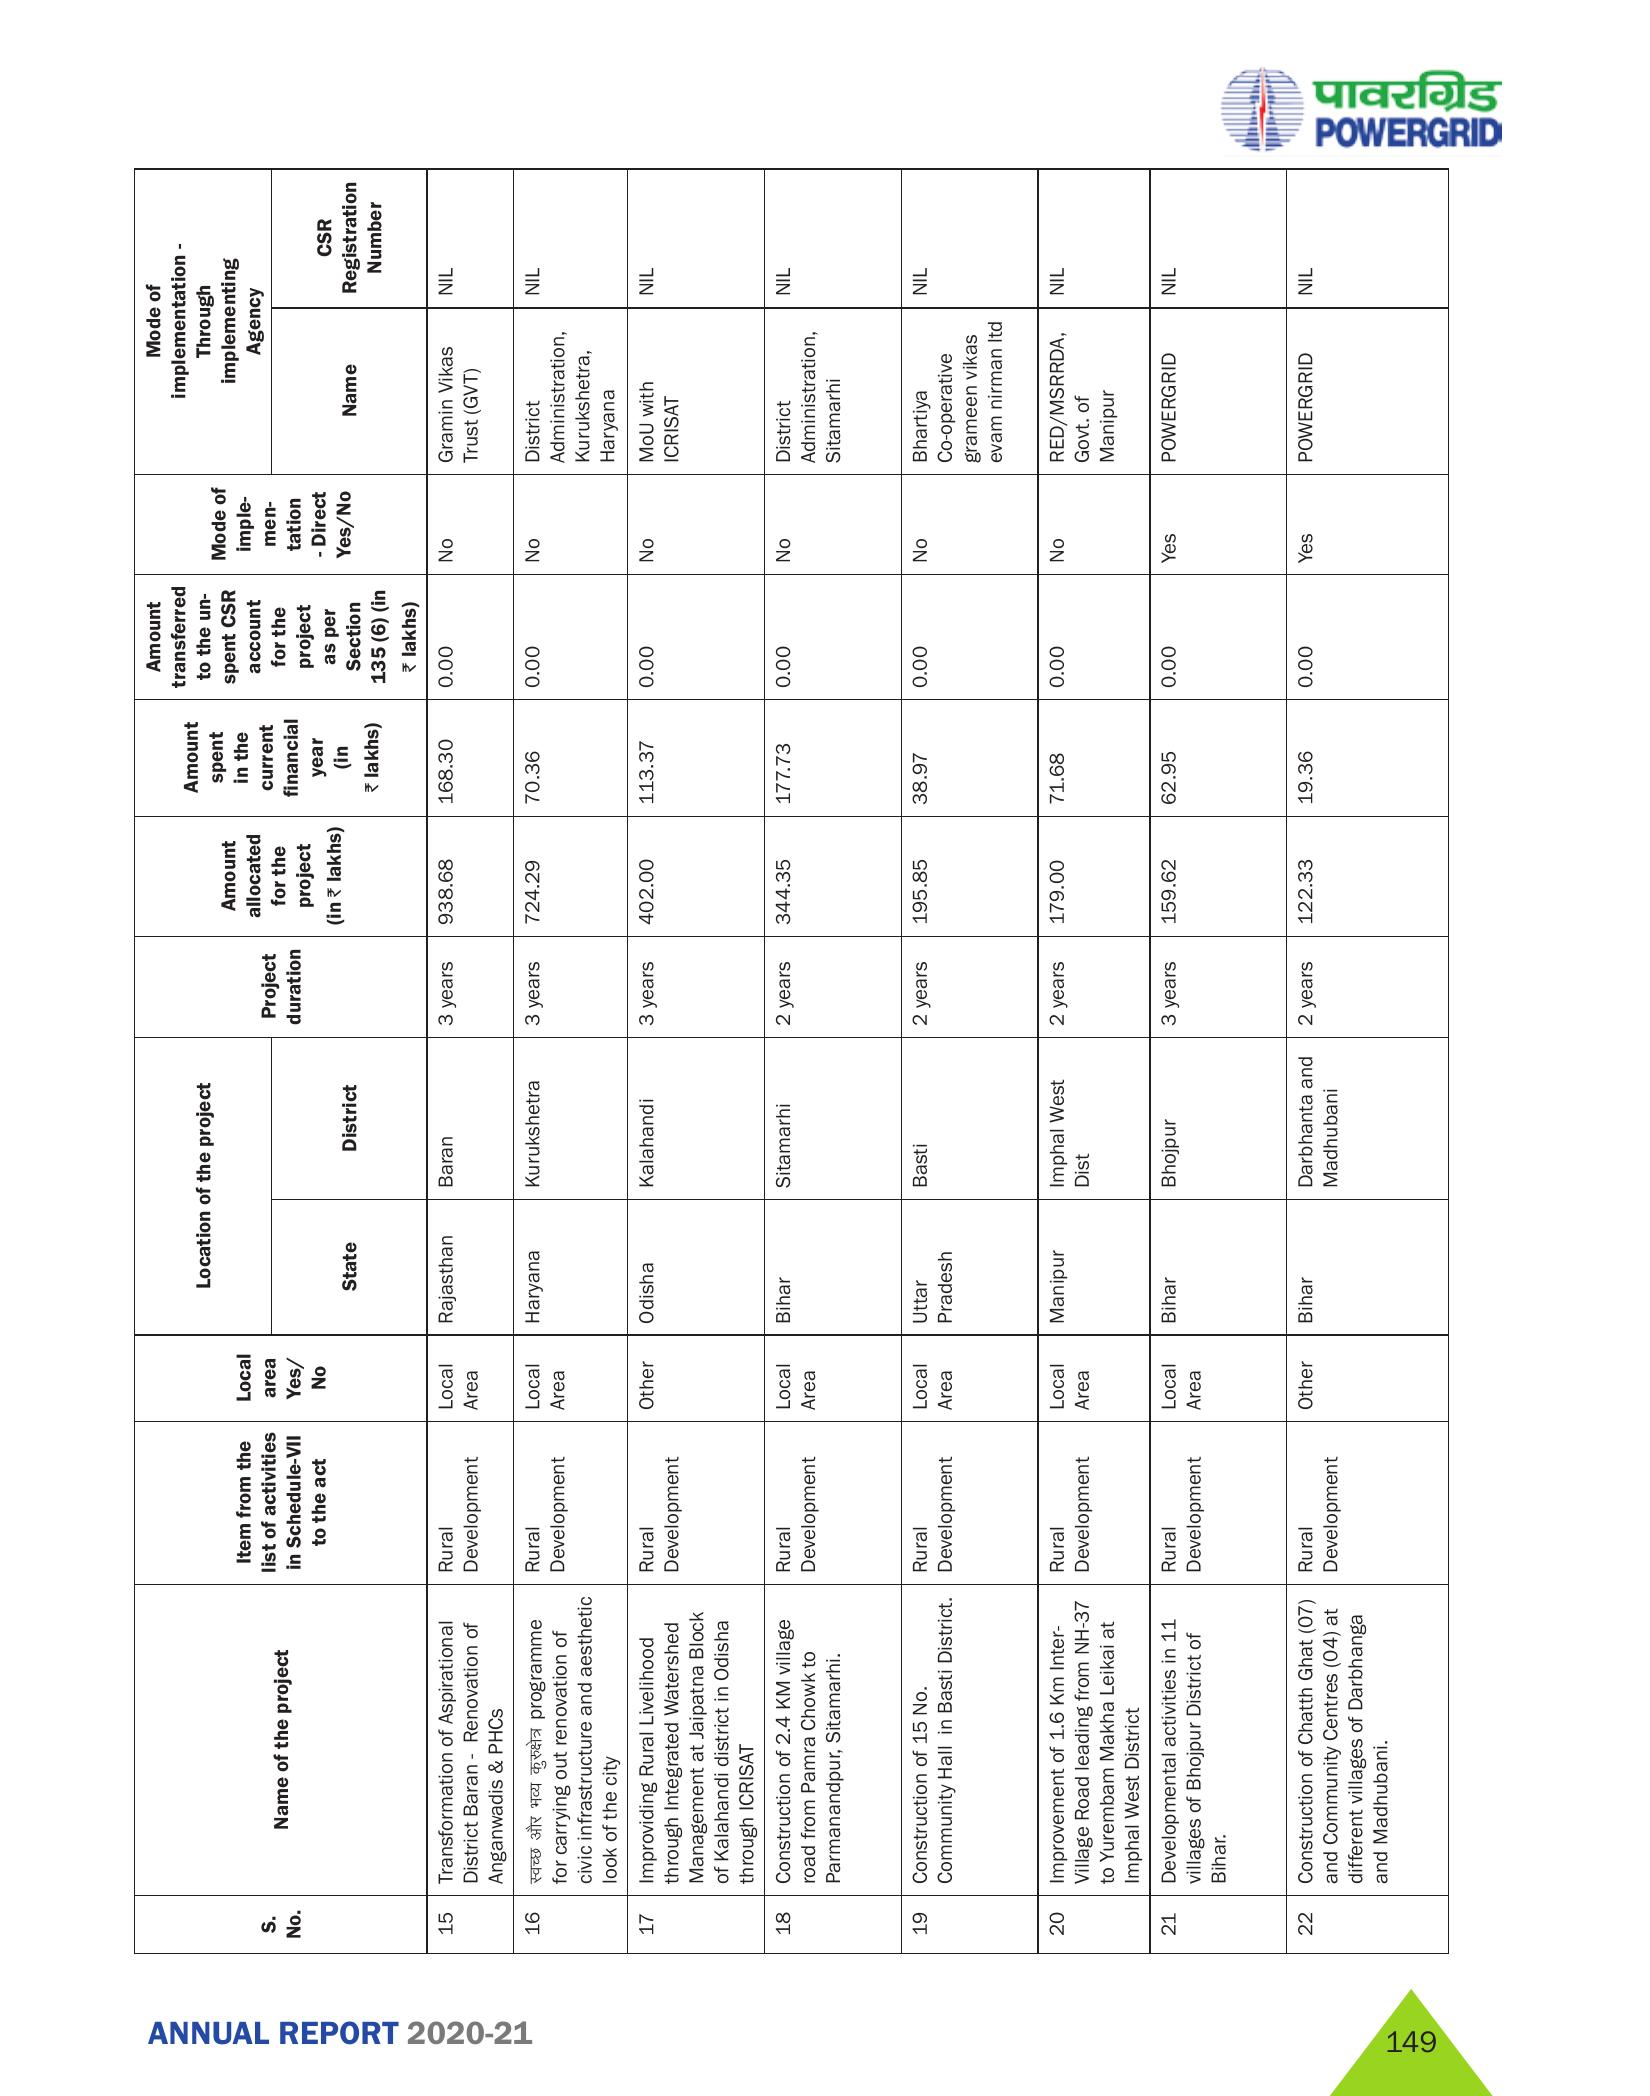Footer: (0, 1974, 1650, 2096)
Header: (0, 0, 1650, 158)
Table: (65, 163, 1466, 1974)
